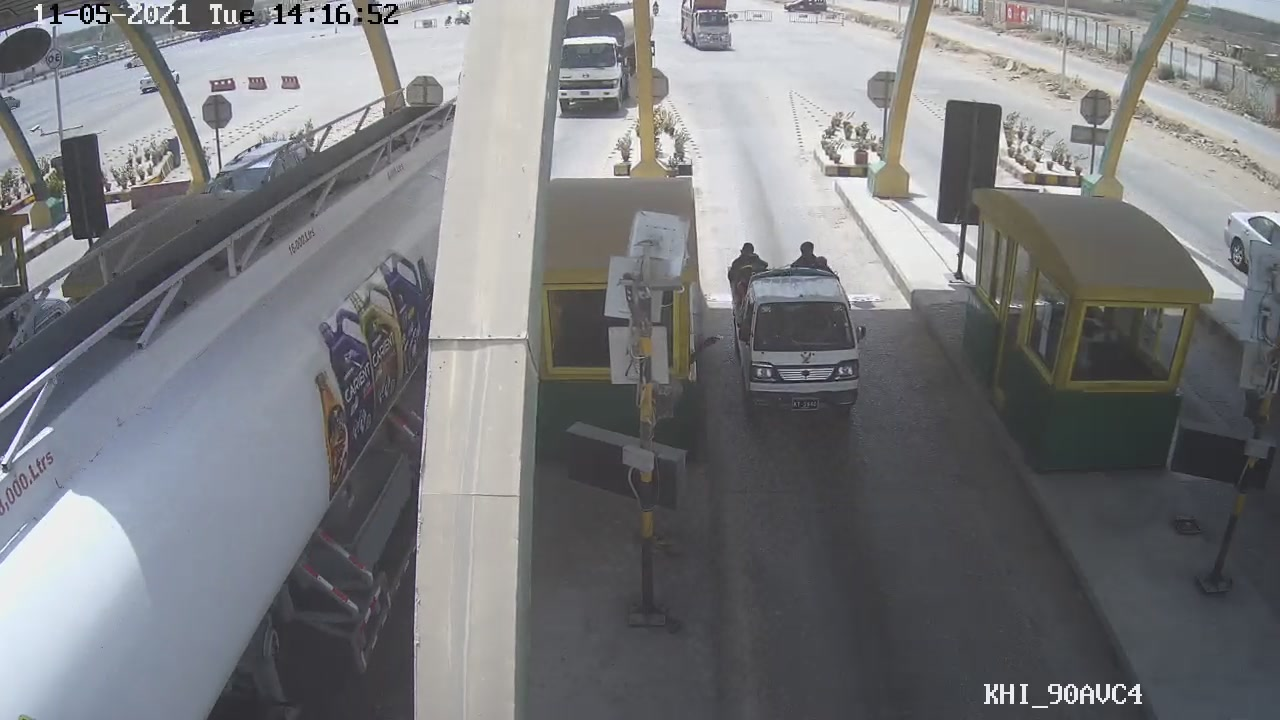F1: (718, 256, 883, 433)
